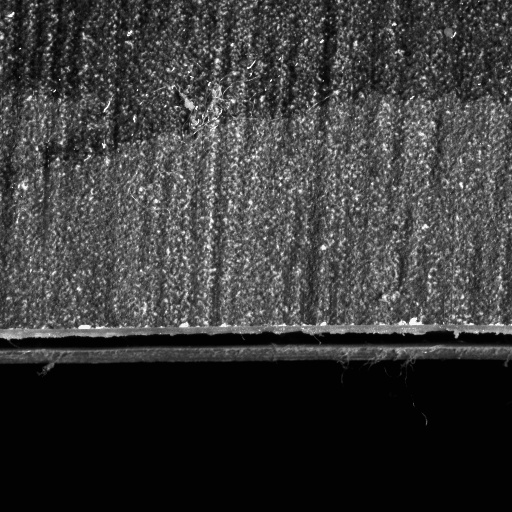kaijiao: (0, 321, 511, 366)
